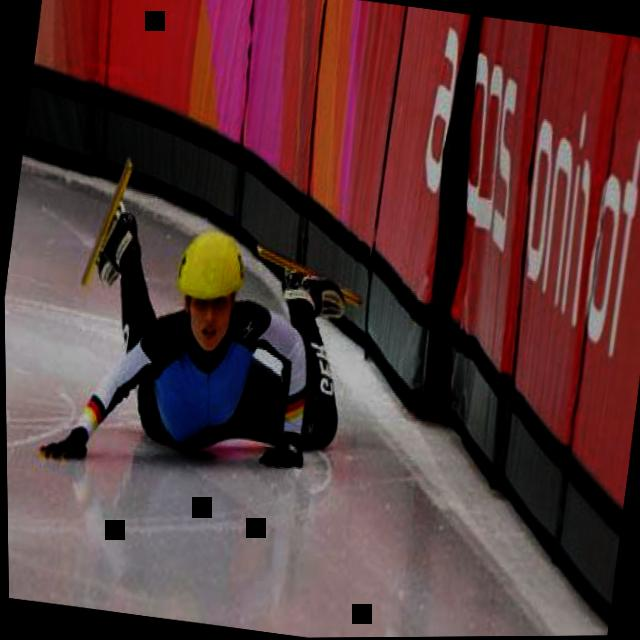Fall-Detected: (33, 164, 381, 492)
